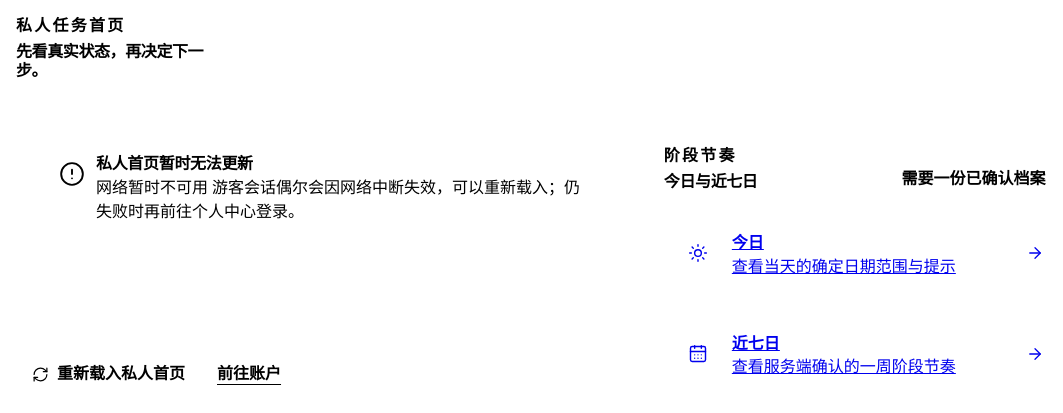
Test: private P0 surfaces › recovers from a guest dashboard request failure
This screenshot has width=1063, height=413.
Expected: the message "私人首页暂时无法更新" is shown, [59,155,580,220]
Expected: the text "网络暂时不可用 游客会话偶尔会因网络中断失效，可以重新载入；仍失败时再前往个人中心登录。" is shown, [96,174,592,222]
Click the button "重新载入私人首页" at (108, 374), box [16,352,201,396]
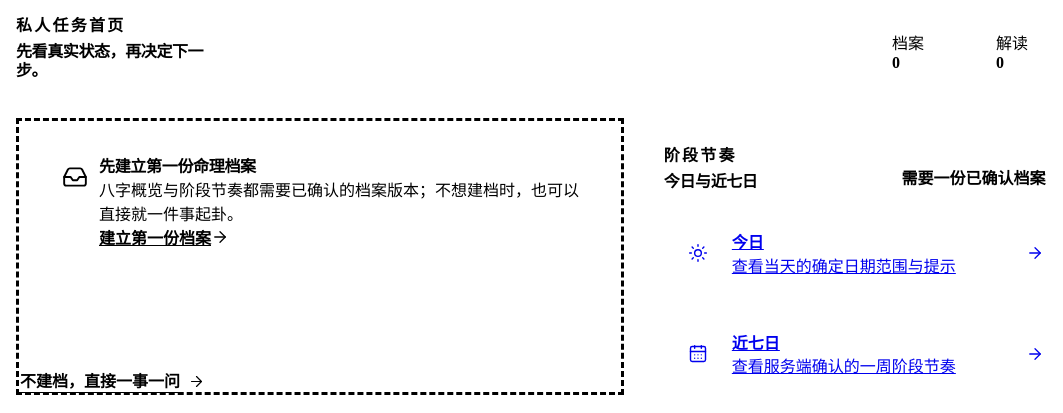
Now the message "先建立第一份命理档案" is shown, box [16,118,624,395]
